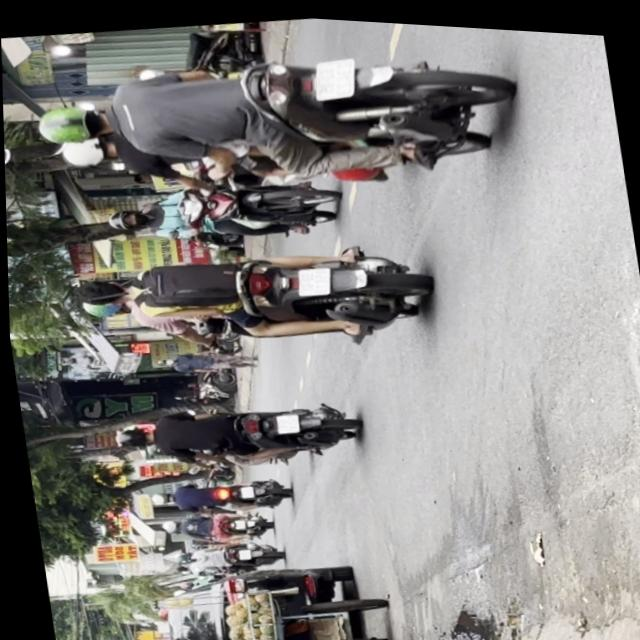helmet: (31, 93, 113, 148), (55, 132, 114, 170), (77, 293, 131, 318), (104, 202, 148, 231), (109, 421, 150, 449)
licenseplate: (27, 14, 520, 226), (65, 215, 438, 374), (103, 380, 360, 484), (99, 158, 345, 259)
motorcyclist: (71, 270, 136, 307)
nohelmet: (312, 51, 357, 97), (293, 260, 331, 292), (271, 407, 298, 429)
